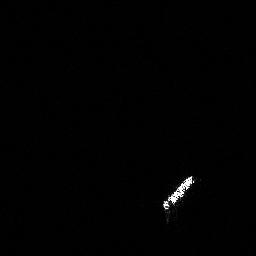ship: (161, 173, 200, 224)
